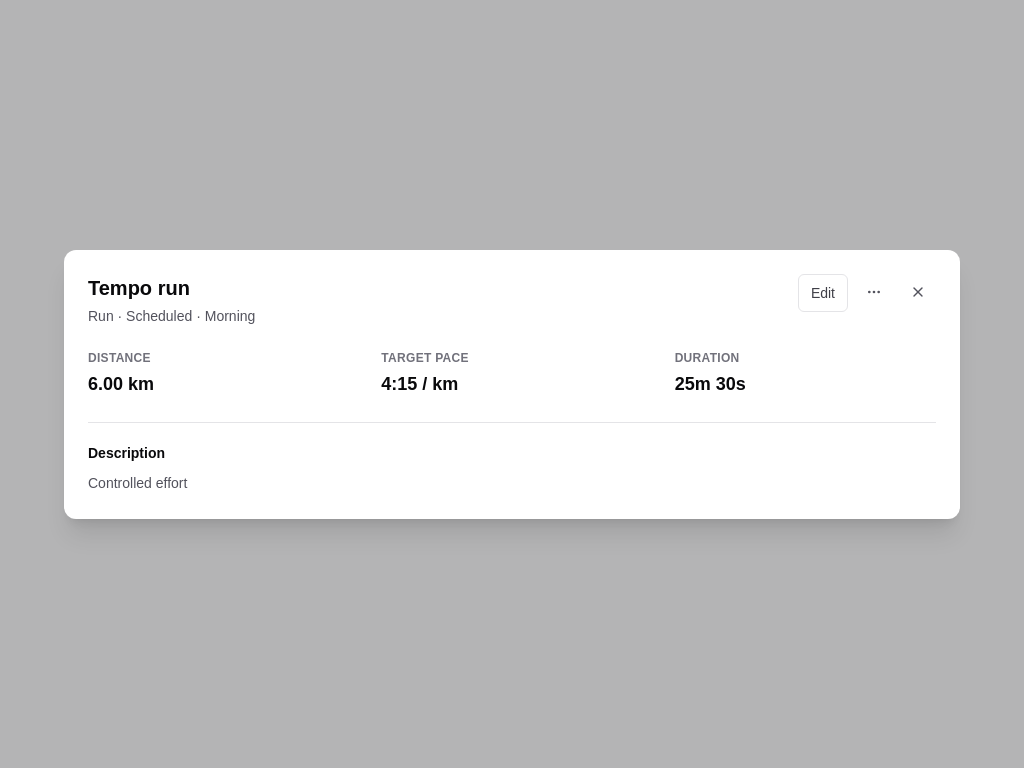
Test: hides skip and complete actions for future scheduled training sessions
Click the button named "More actions" at (874, 292), box [856,274,892,310]
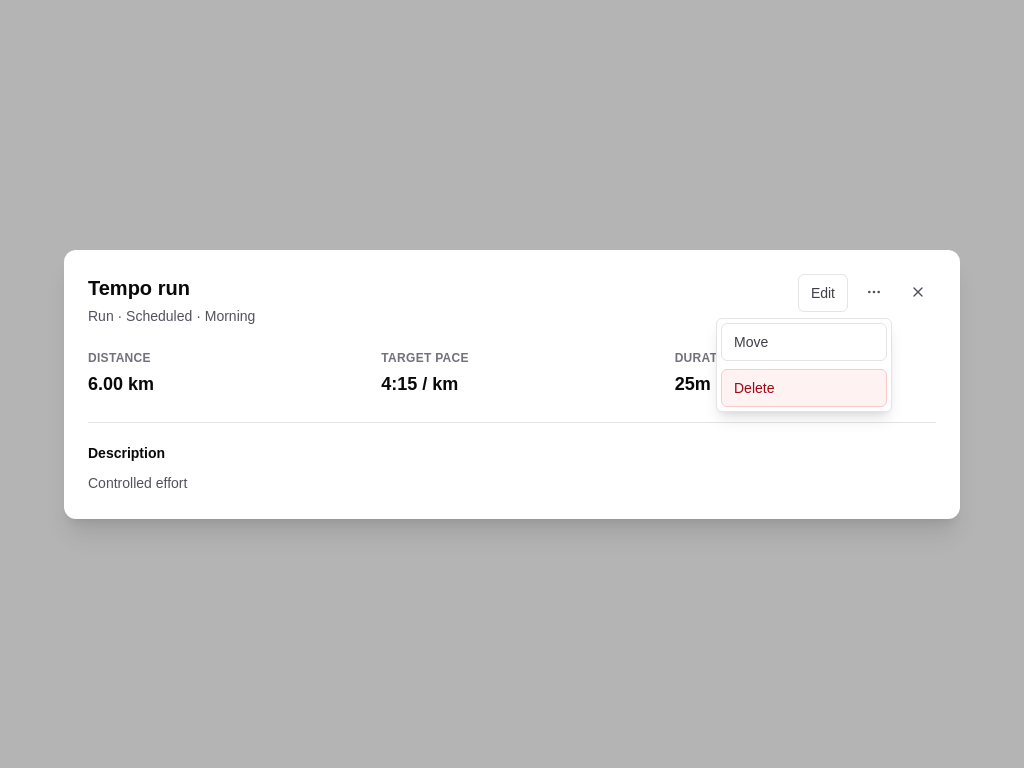
Check: the menu item "Delete" is shown, box [721,368,887,406]
